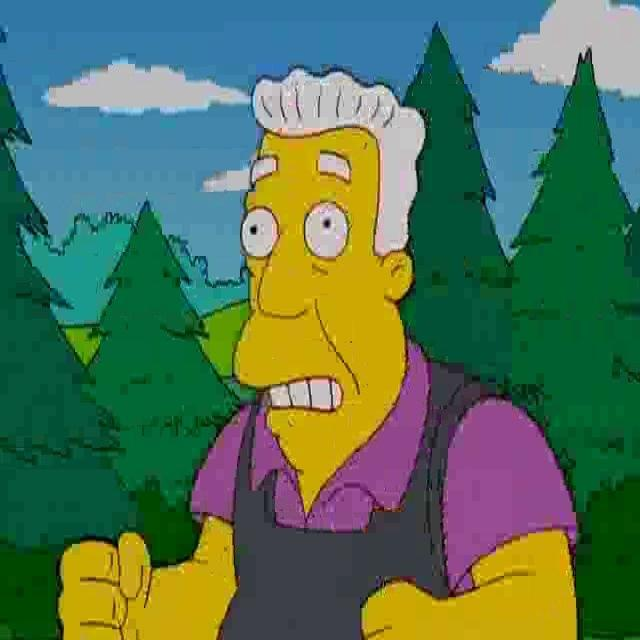Kent Brockman: (231, 64, 429, 484)
